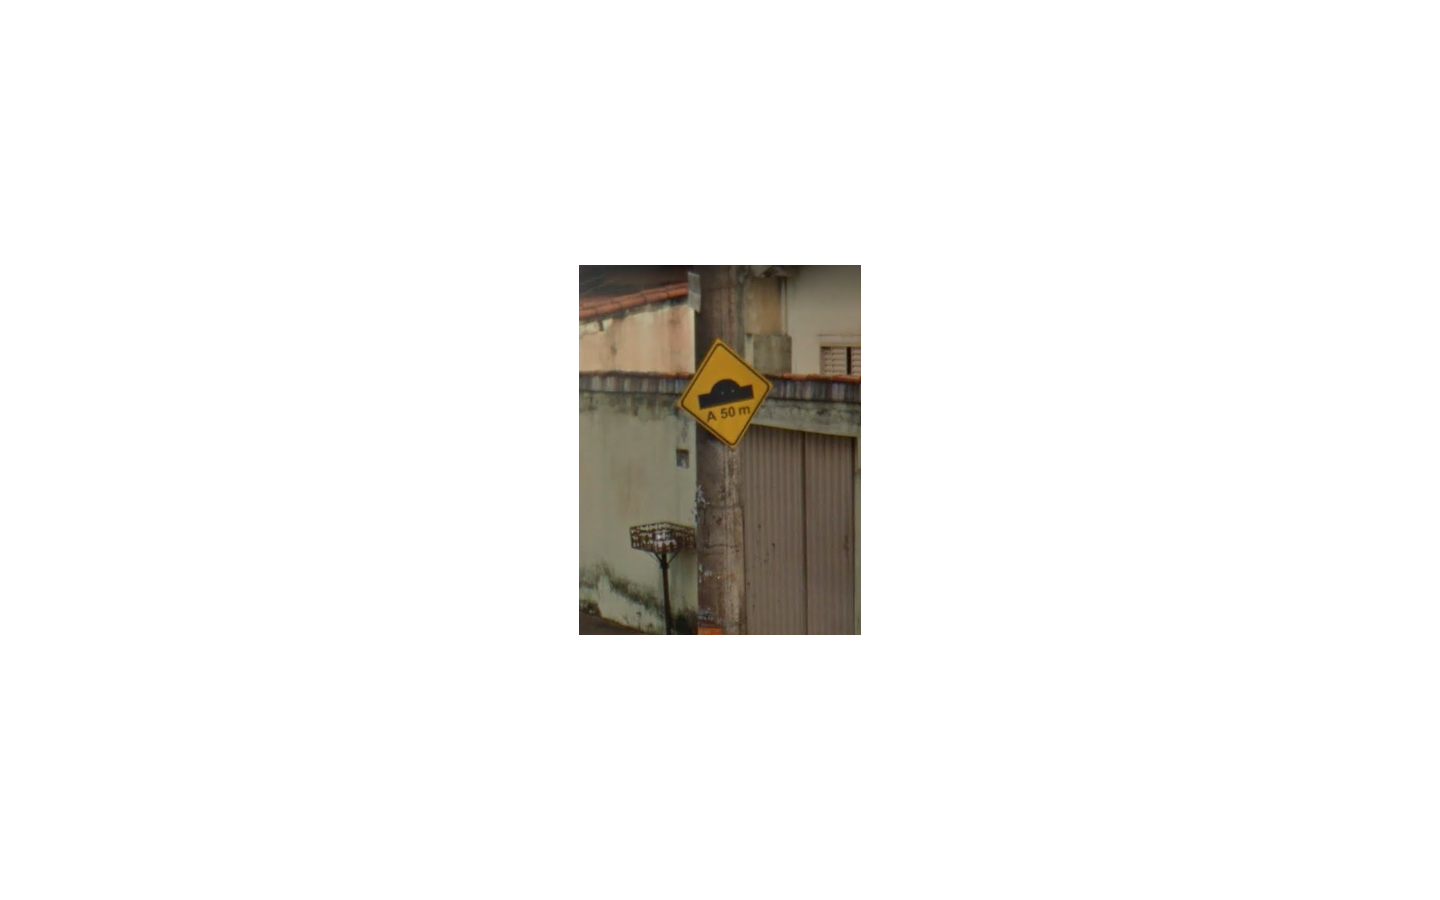l50m: (679, 338, 771, 449)
